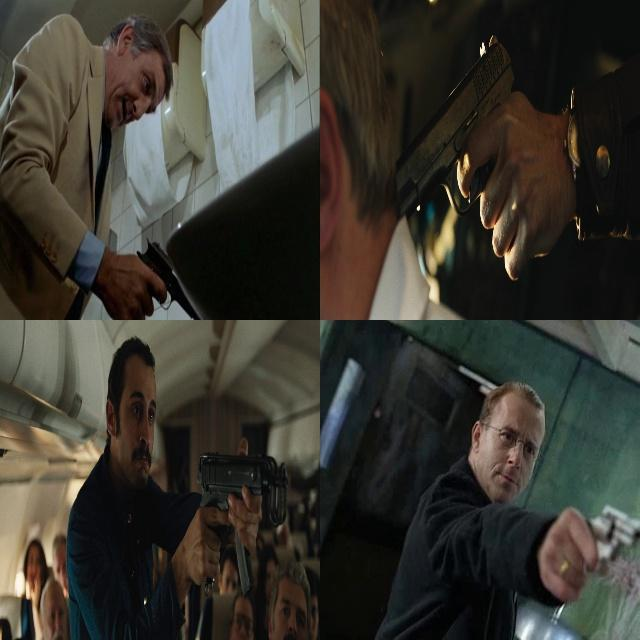gun-knife-thesis - v11 Yolov5 augmented: (385, 28, 521, 270), (192, 443, 289, 602), (538, 501, 639, 607), (114, 234, 220, 319)
